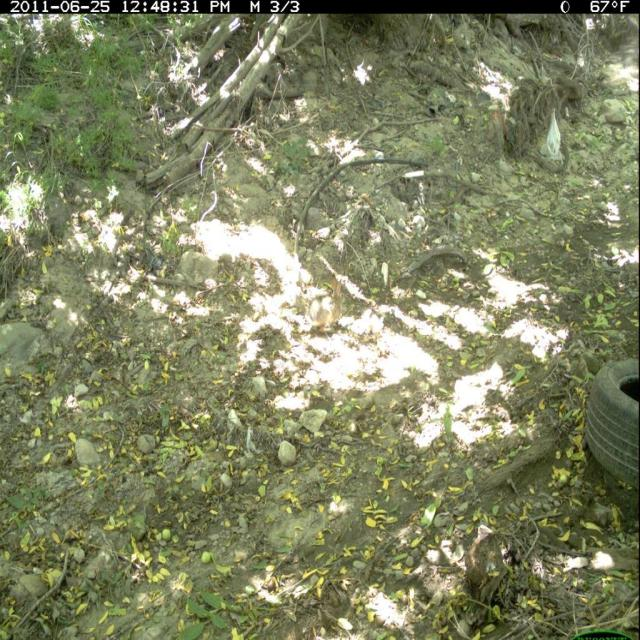rabbit: (305, 269, 354, 343)
